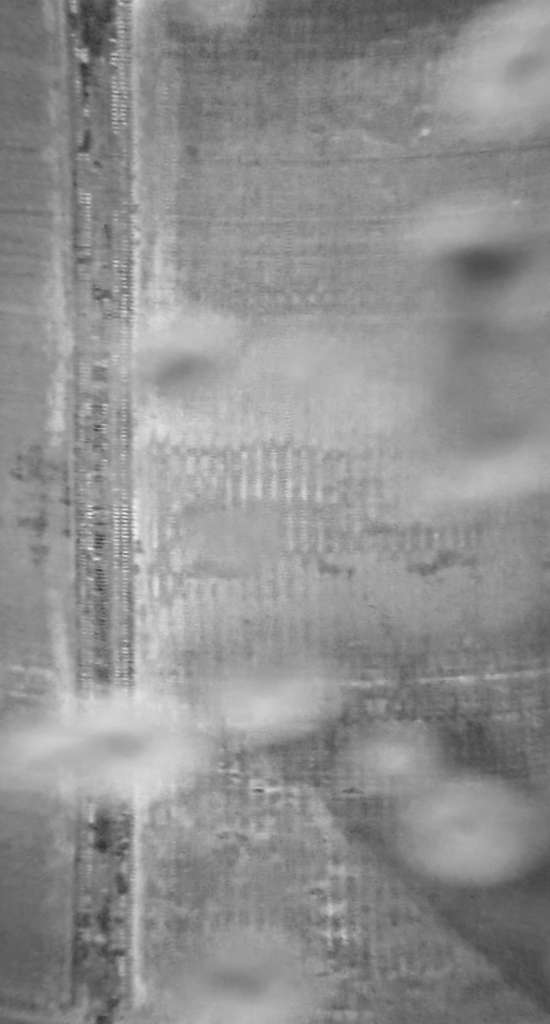splice: (42, 1, 147, 1024)
